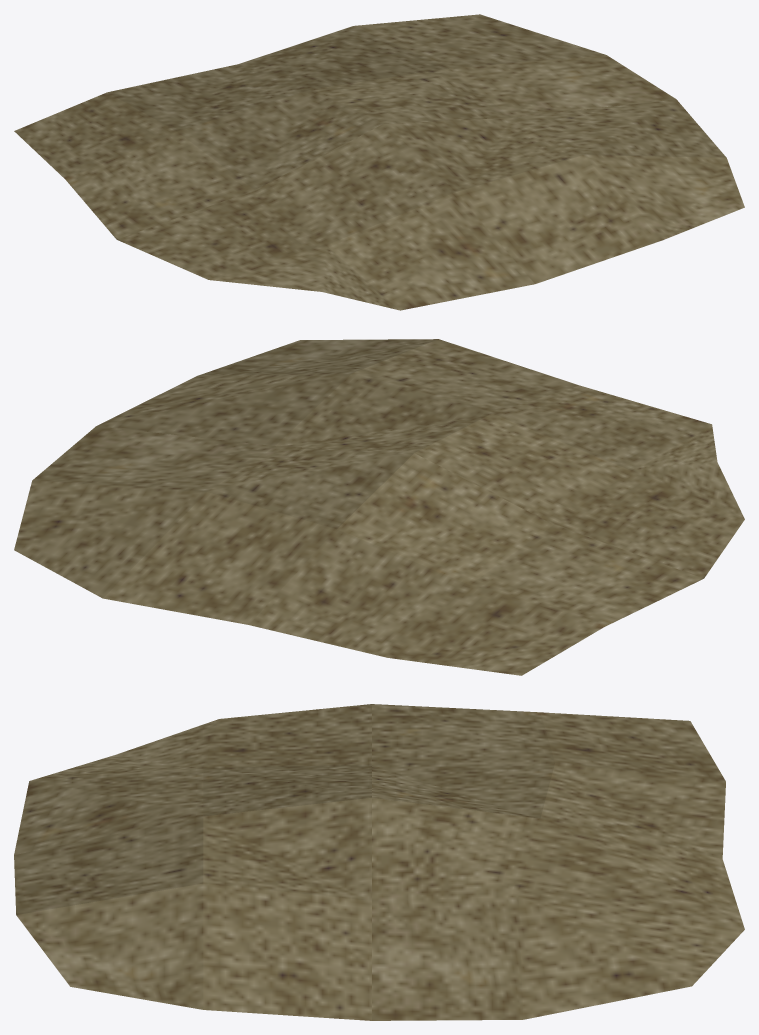
Rendered from SM_EC_Hay_Patch_1.fbx.
3 views of the same model, one above another, from view 1: azimuth 30°, elevation 25°; view 2: azimuth 150°, elevation 25°; view 3: azimuth 270°, elevation 25° (orthographic). The views are drawn at different scales.
Parts seen in each view (by area): view 1: SM_EC_Hay_Patch_1; view 2: SM_EC_Hay_Patch_1; view 3: SM_EC_Hay_Patch_1.
Part boxes in pixels (<box>): SM_EC_Hay_Patch_1: <box>14,14,744,310</box>; SM_EC_Hay_Patch_1: <box>14,339,744,675</box>; SM_EC_Hay_Patch_1: <box>14,704,744,1020</box>.
Bounding box in the file's own units: 2.08 × 2 × 0.1791.
